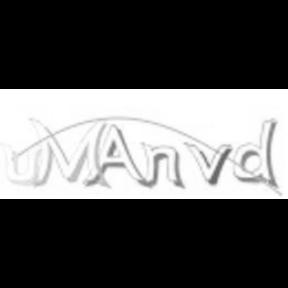A: (86, 123, 148, 194)
M: (29, 115, 110, 189)
d: (231, 114, 279, 190)
n: (139, 139, 187, 190)
u: (2, 140, 42, 188)
v: (183, 140, 233, 186)
